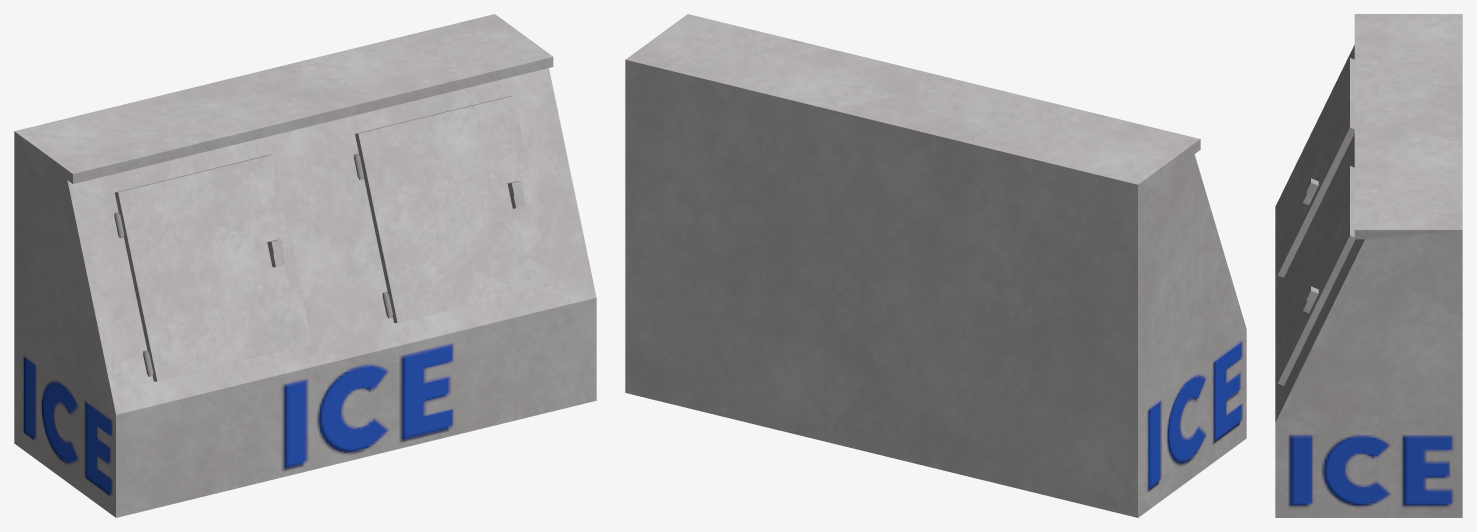
The model's file is freezer.glb.
The picture shows the model from 3 angles, left to right: view 1: azimuth 30°, elevation 25°; view 2: azimuth 150°, elevation 25°; view 3: azimuth 270°, elevation 25°; orthographic projection. The views are drawn at different scales.
Parts seen in each view (by area): view 1: SM_IceFreezer; view 2: SM_IceFreezer; view 3: SM_IceFreezer.
Boxes of the visible parts, left/top/right/bottom form: SM_IceFreezer: left=14, top=14, right=596, bottom=517; SM_IceFreezer: left=625, top=14, right=1246, bottom=517; SM_IceFreezer: left=1275, top=14, right=1462, bottom=517.
Bounding box in the file's own units: 2.03 × 1.26 × 0.7455.
1 material, 1 textured.
